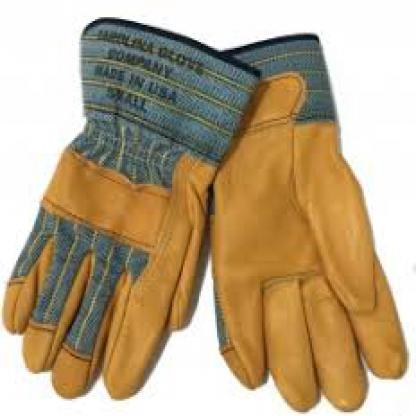with_gloves: (2, 19, 260, 403), (195, 33, 410, 414)
